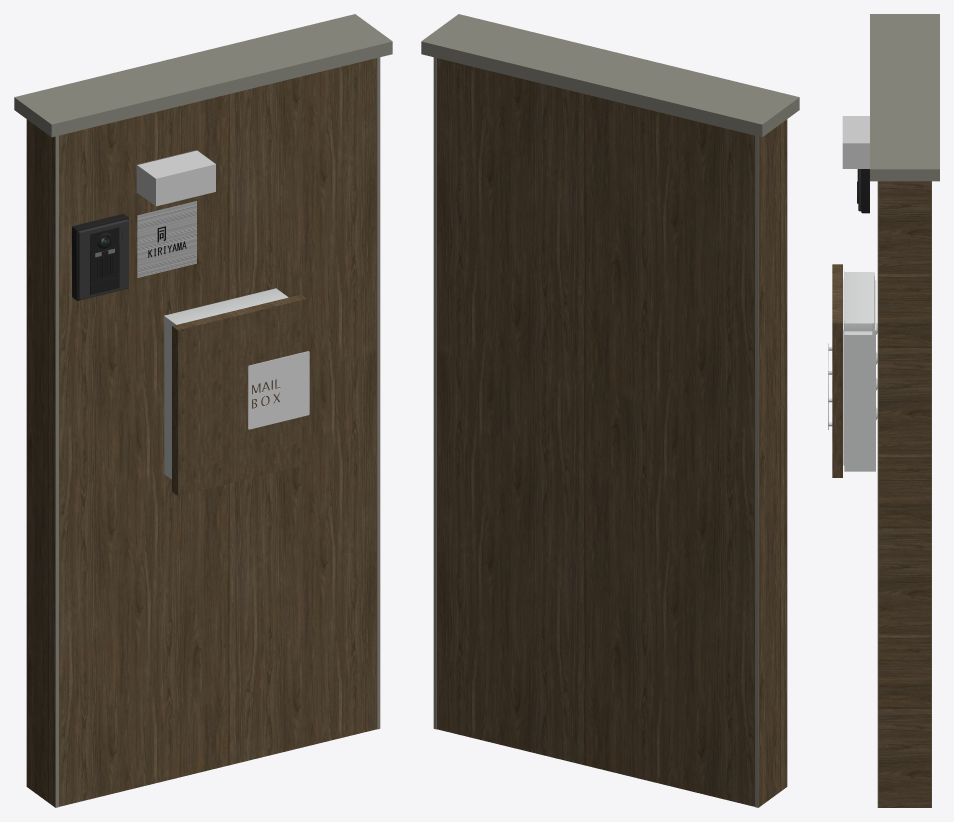
File: abmonchu_w08_brownebony.fbx
3 views of the same model, side by side, from view 1: azimuth 30°, elevation 25°; view 2: azimuth 150°, elevation 25°; view 3: azimuth 270°, elevation 25° (orthographic). The views are drawn at different scales.
Visible parts, largest first — view 1: abmonchu_w08_brownebony; view 2: abmonchu_w08_brownebony; view 3: abmonchu_w08_brownebony.
Boxes of the visible parts, x1,y1,x2,y2 form: abmonchu_w08_brownebony: (14,14,392,807); abmonchu_w08_brownebony: (421,14,799,807); abmonchu_w08_brownebony: (828,14,939,807).
Bounding box in the file's own units: 84 × 162 × 25.57.
14 materials, 8 textured.
